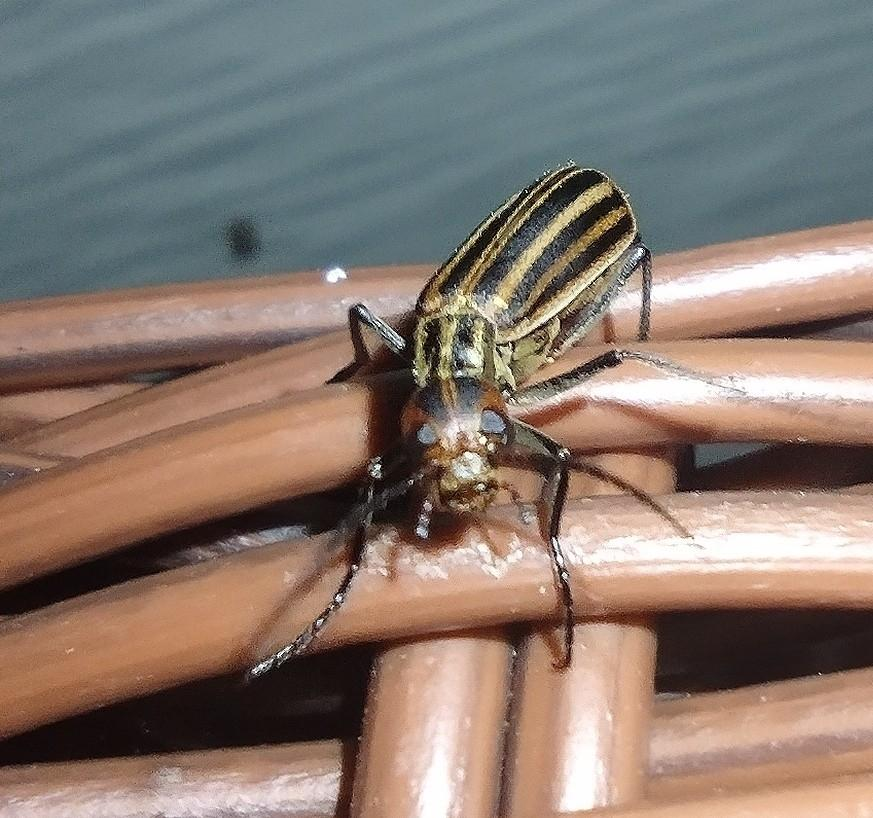blister_beetle: (195, 99, 788, 725)
